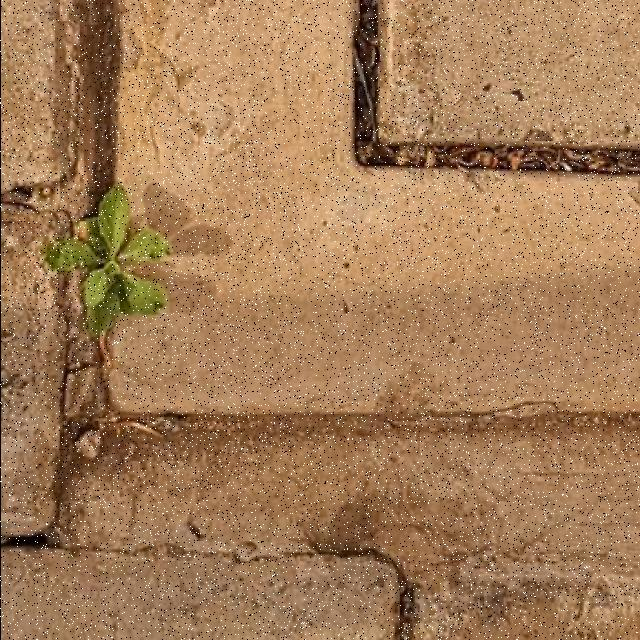weed: (44, 185, 169, 335)
